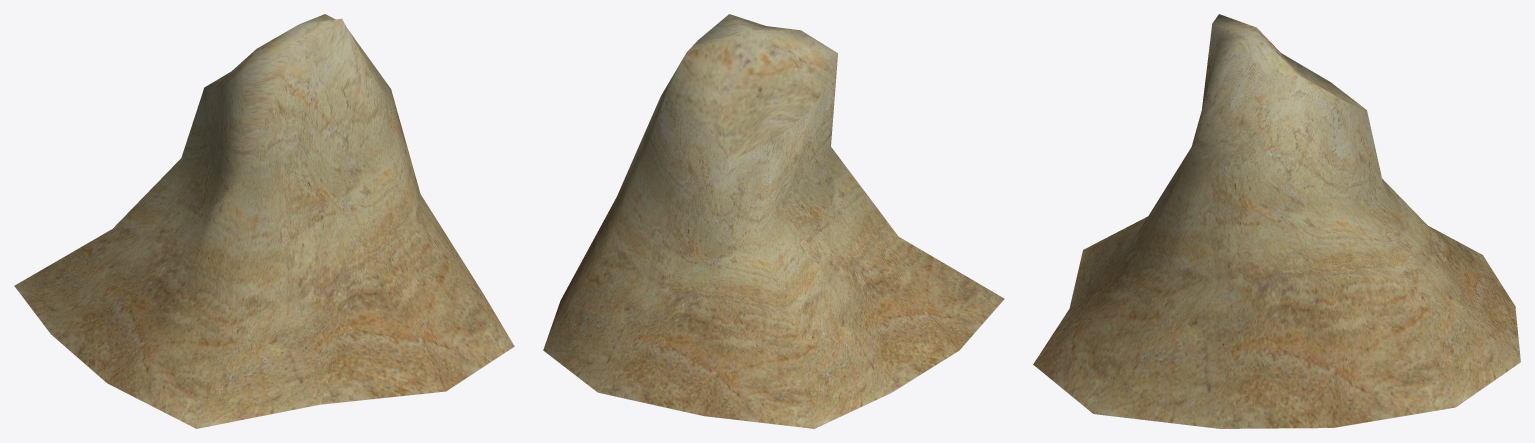
File: rock_beach_spike_a2_l2.fbx
The picture shows the model from 3 angles, left to right: view 1: azimuth 30°, elevation 25°; view 2: azimuth 150°, elevation 25°; view 3: azimuth 270°, elevation 25°; orthographic projection. The views are drawn at different scales.
Visible parts, largest first — view 1: mesh_node; view 2: mesh_node; view 3: mesh_node.
Part boxes in pixels (left/top/right/bottom): mesh_node: left=14, top=14, right=514, bottom=428; mesh_node: left=543, top=14, right=1004, bottom=428; mesh_node: left=1033, top=14, right=1520, bottom=428.
Bounding box in the file's own units: 7.25 × 5.62 × 7.88.
Materials: 1 (1 with a texture image).
